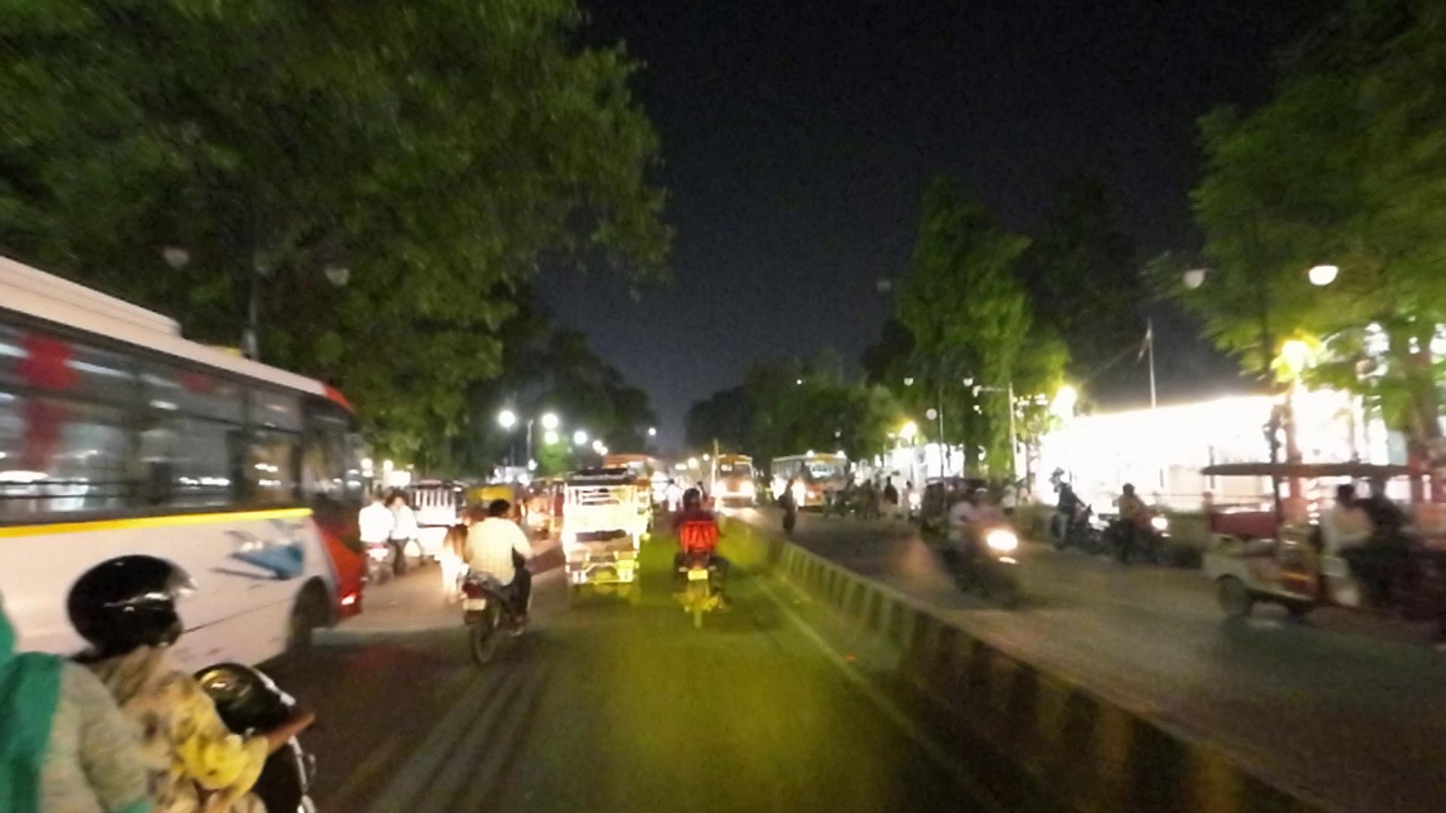streetlight: (309, 225, 370, 299), (151, 219, 213, 274), (1175, 249, 1223, 310)
